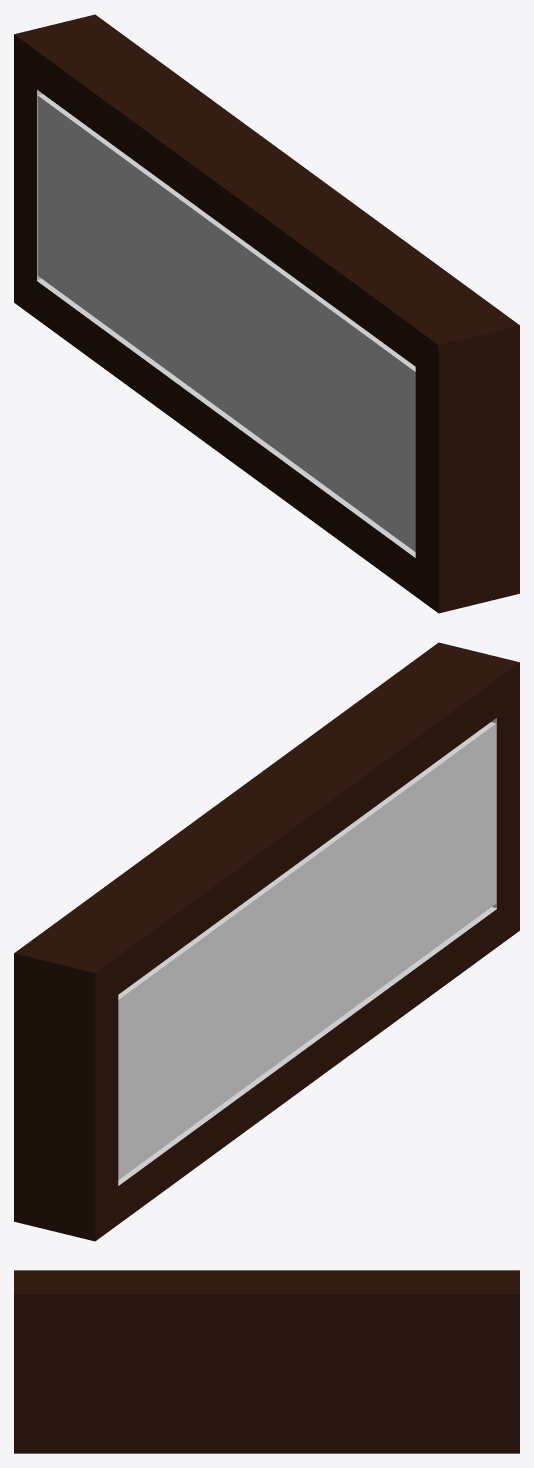
File: Lampe2.fbx
3 renders of one model, top to bottom at view 1: azimuth 30°, elevation 25°; view 2: azimuth 150°, elevation 25°; view 3: azimuth 270°, elevation 25°, orthographic. The views are drawn at different scales.
Visible parts, largest first — view 1: Cube.013, Cube.012; view 2: Cube.013, Cube.012; view 3: Cube.013.
Part boxes in pixels (x1=…): Cube.013: x1=14, y1=14, x2=519, y2=613; Cube.012: x1=37, y1=90, x2=415, y2=557; Cube.013: x1=14, y1=642, x2=519, y2=1241; Cube.012: x1=118, y1=718, x2=496, y2=1185; Cube.013: x1=14, y1=1270, x2=519, y2=1453.
Size of the model in its own units: 14.76 by 46.56 by 134.
